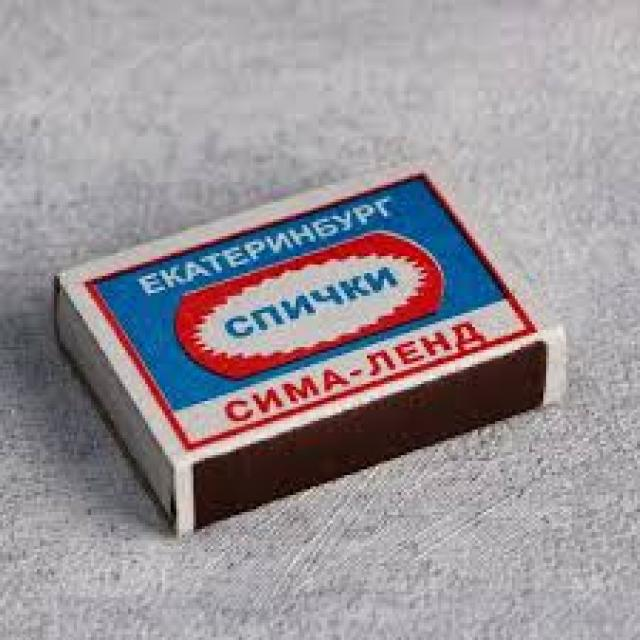match: (48, 151, 571, 539)
